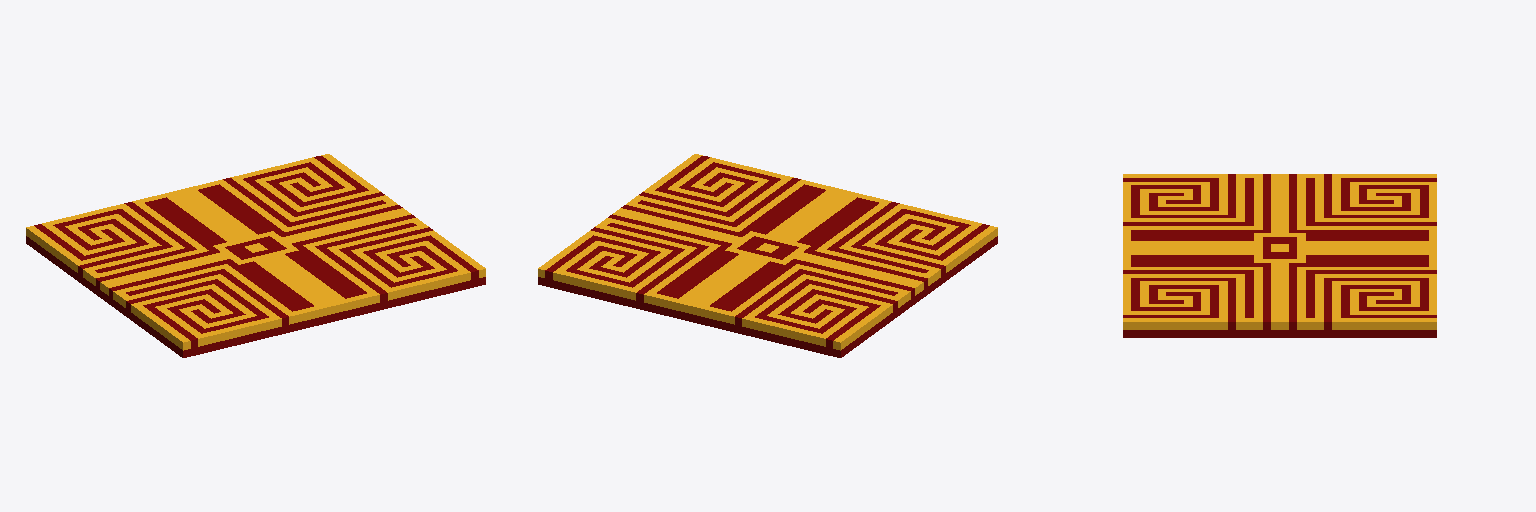
3 renders of one model, left to right at view 1: azimuth 30°, elevation 25°; view 2: azimuth 150°, elevation 25°; view 3: azimuth 270°, elevation 25°, orthographic.
Size of the model in its own units: 40 by 2 by 36.
1 materials, 1 textured.